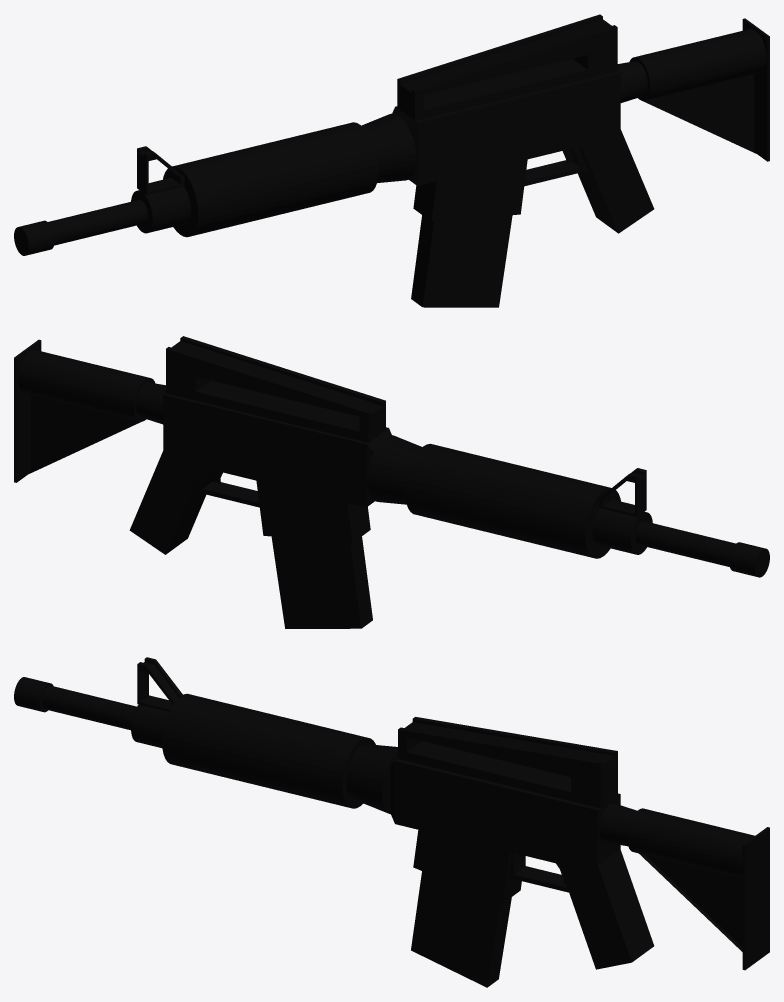
The model's file is M4Full.fbx.
3 renders of one model, top to bottom at view 1: azimuth 30°, elevation 25°; view 2: azimuth 150°, elevation 25°; view 3: azimuth 330°, elevation 25°, orthographic.
Visible parts, largest first — view 1: Rifle, Magazine; view 2: Rifle, Magazine; view 3: Rifle, Magazine.
Boxes of the visible parts, bbox=[...] form: Rifle: bbox=[14, 14, 769, 255]; Magazine: bbox=[411, 215, 512, 307]; Rifle: bbox=[14, 336, 769, 577]; Magazine: bbox=[271, 536, 372, 628]; Rifle: bbox=[14, 657, 769, 970]; Magazine: bbox=[411, 871, 511, 987].
Size of the model in its own units: 9.35 by 3.08 by 0.7998.
